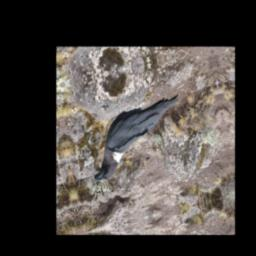Crow: (83, 92, 190, 183)
